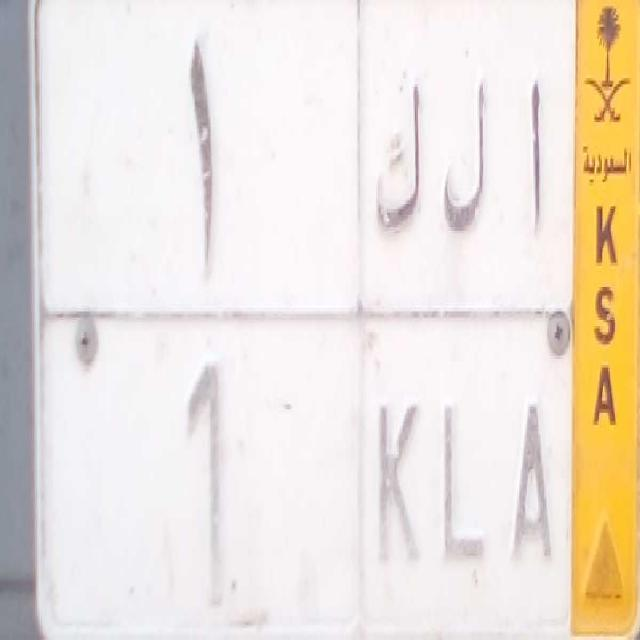license_plate: (36, 303, 574, 640)
